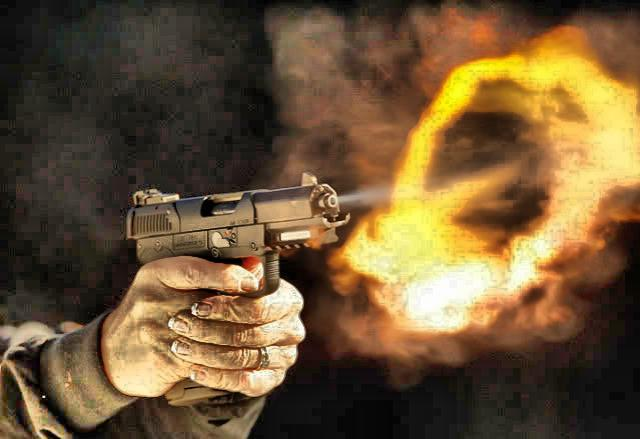pistol: (126, 172, 347, 406)
